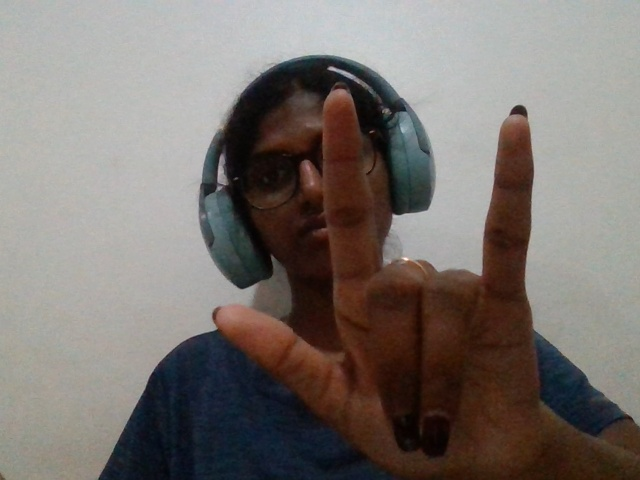I Love You: (198, 58, 565, 480)
